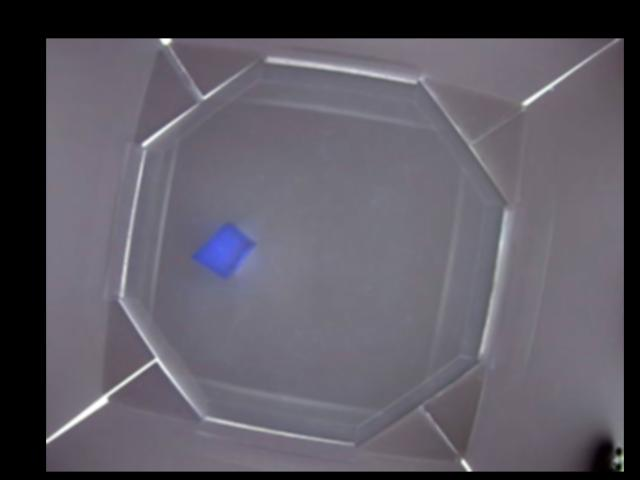Potato: (193, 221, 255, 277)
